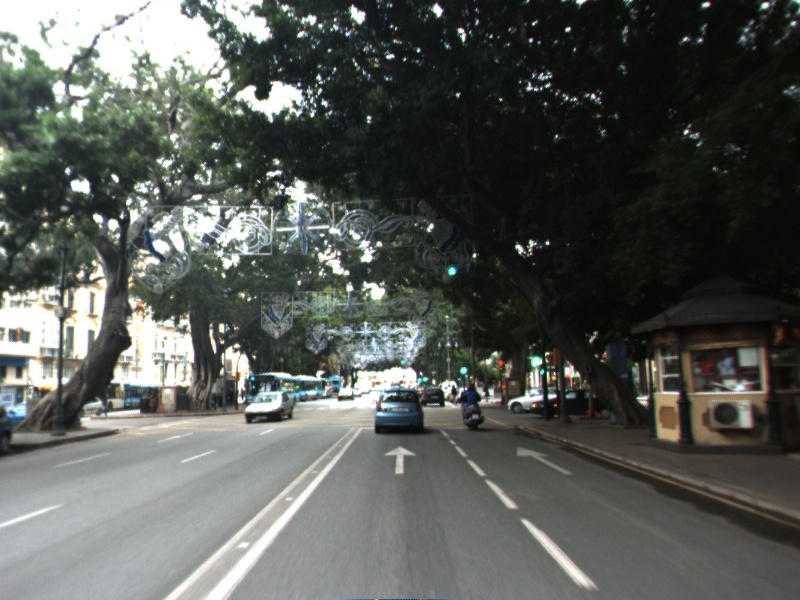STRAIGHT: (514, 445, 576, 477), (382, 444, 419, 476)
